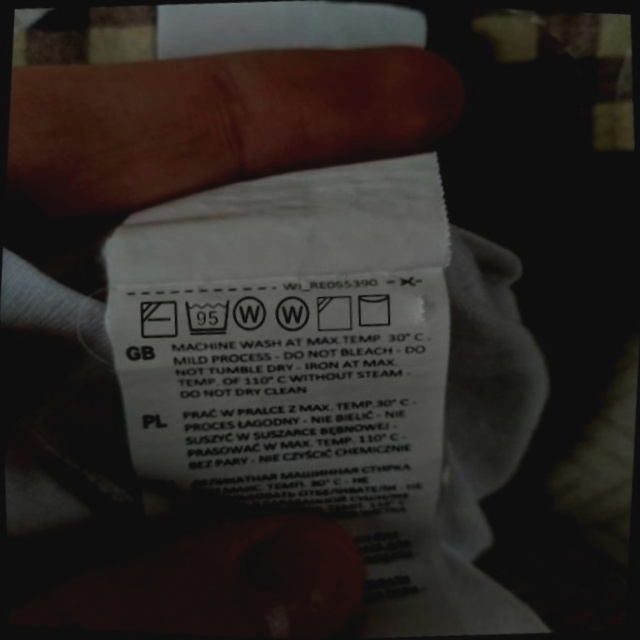95C: (180, 293, 235, 340)
dry_flat_in_shade: (135, 294, 182, 343)
line_dry: (352, 287, 398, 332)
shade_dry: (312, 290, 357, 336)
wet_clean: (271, 292, 314, 337), (230, 289, 272, 335)
